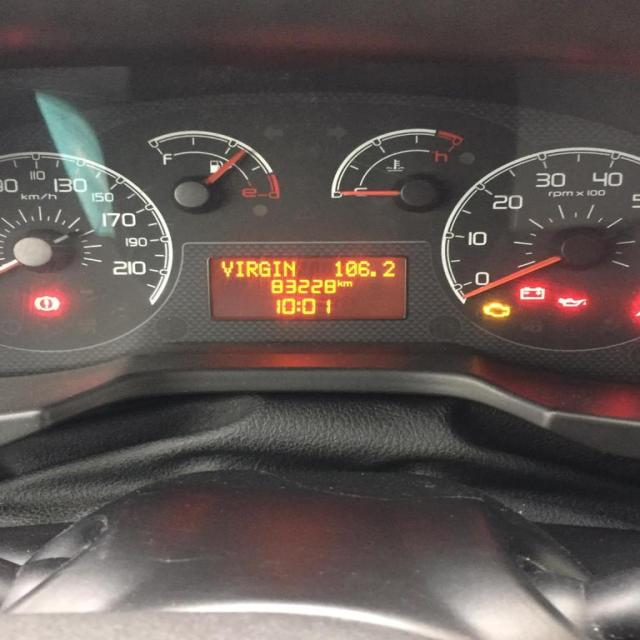odometer: (205, 253, 408, 321)
